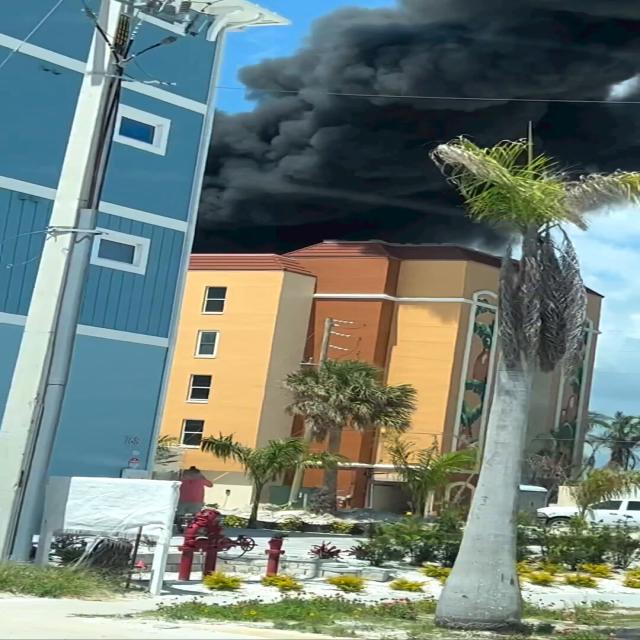smoke: (275, 9, 616, 132), (233, 138, 431, 232)
